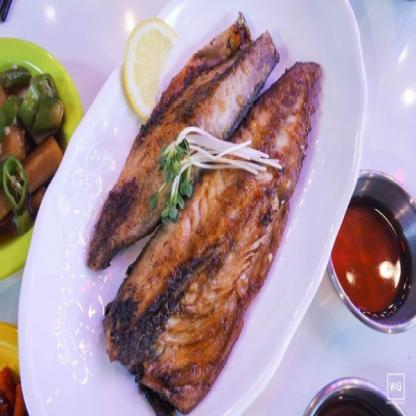Peixe: (78, 10, 325, 414)
